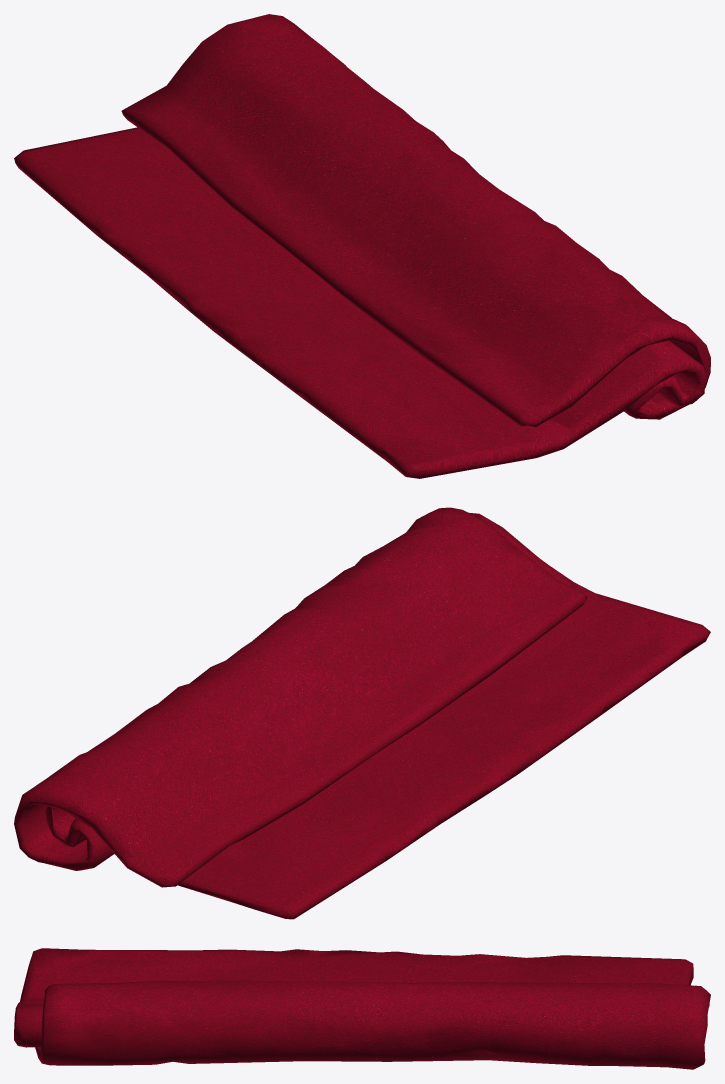
File: Napkin 2.FBX
3 views of the same model, one above another, from view 1: azimuth 30°, elevation 25°; view 2: azimuth 150°, elevation 25°; view 3: azimuth 270°, elevation 25° (orthographic). The views are drawn at different scales.
Parts seen in each view (by area): view 1: Napkin 2; view 2: Napkin 2; view 3: Napkin 2.
Part boxes in pixels (x1=…): Napkin 2: x1=14, y1=14, x2=710, y2=478; Napkin 2: x1=14, y1=507, x2=710, y2=919; Napkin 2: x1=14, y1=948, x2=710, y2=1069.
Bounding box in the file's own units: 8.6 × 2.37 × 20.74.
Materials: 1 (1 with a texture image).
